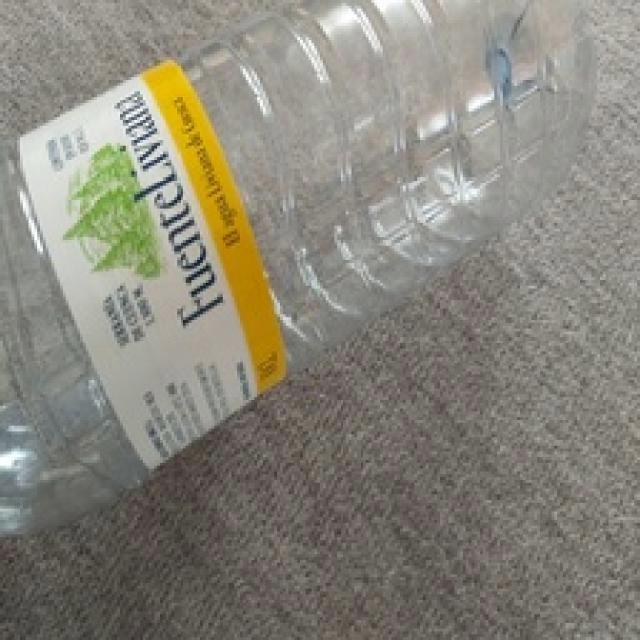bottle: (0, 0, 597, 537)
